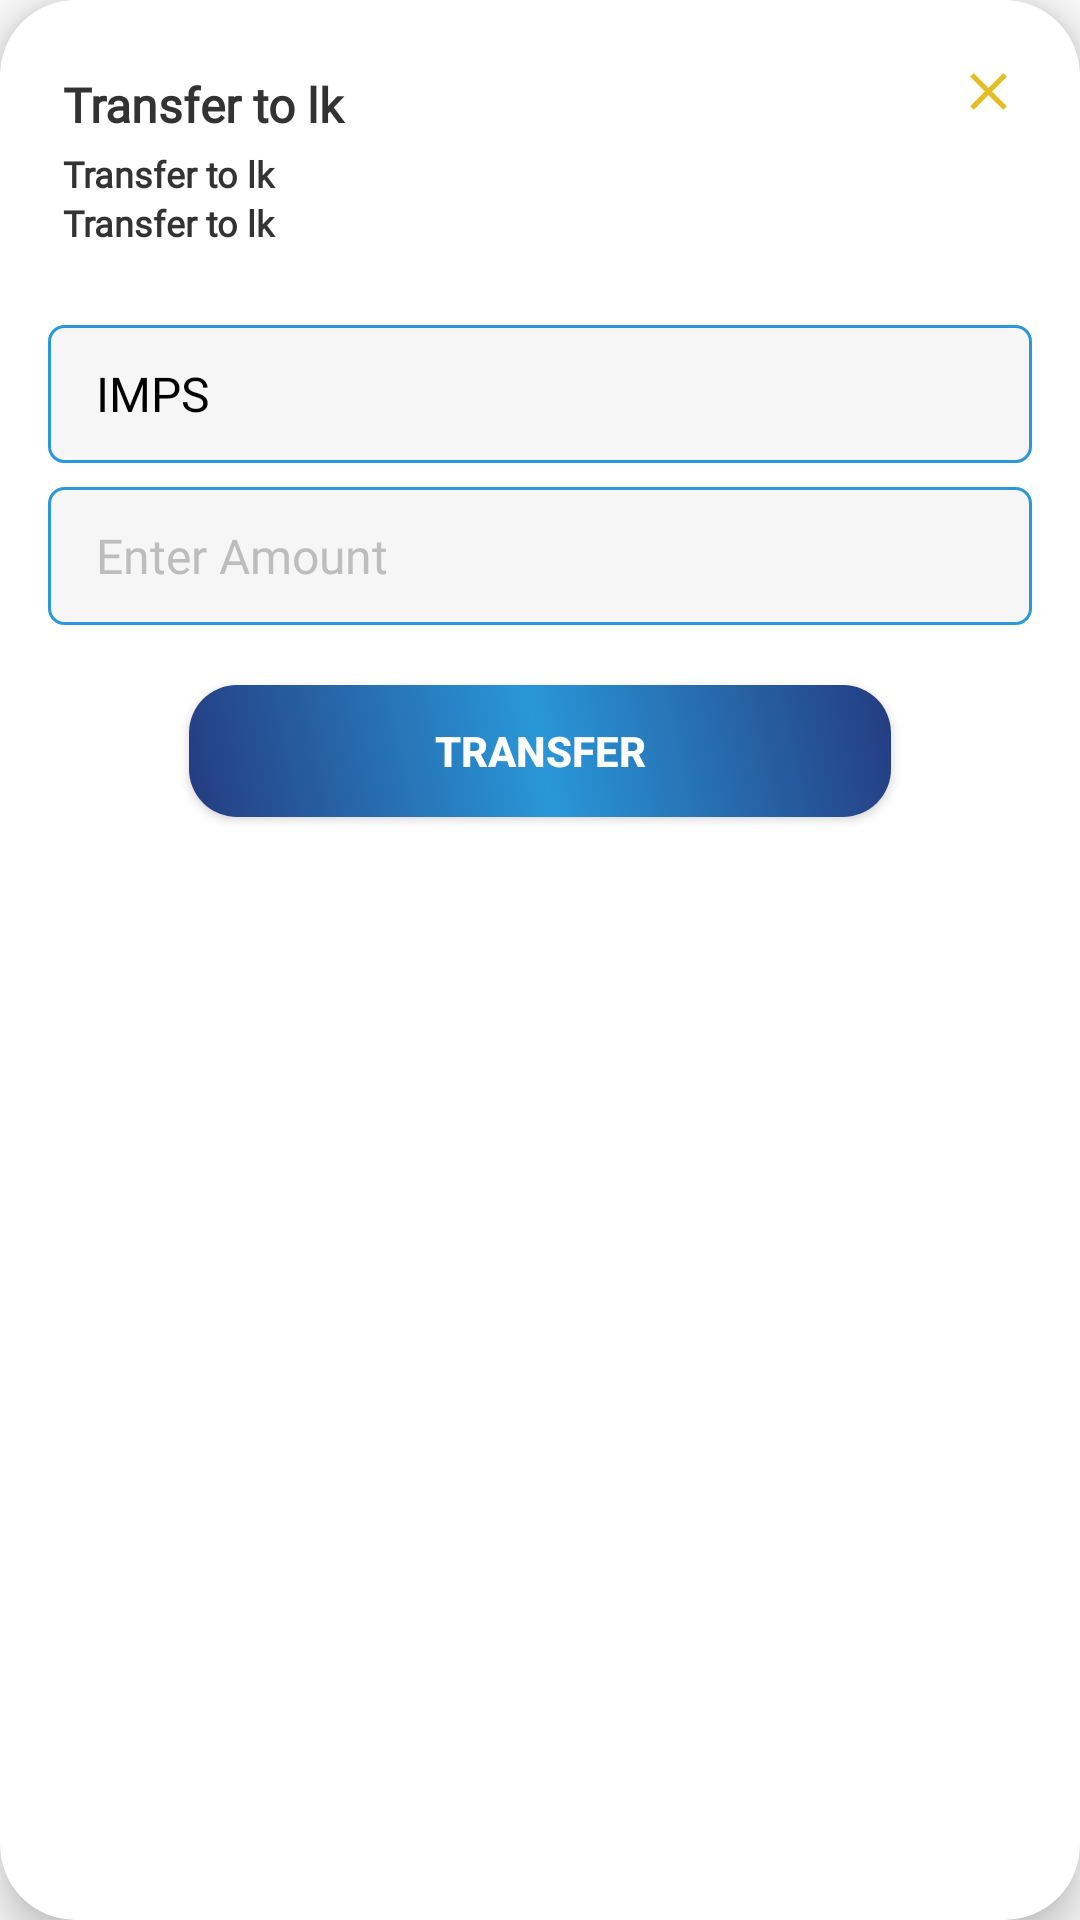

Named icons in this screenshot (1080w x 1920h) and their bounding boxes, box=[x1, y1, x2, y2]:
close: box=[970, 73, 1007, 110]
